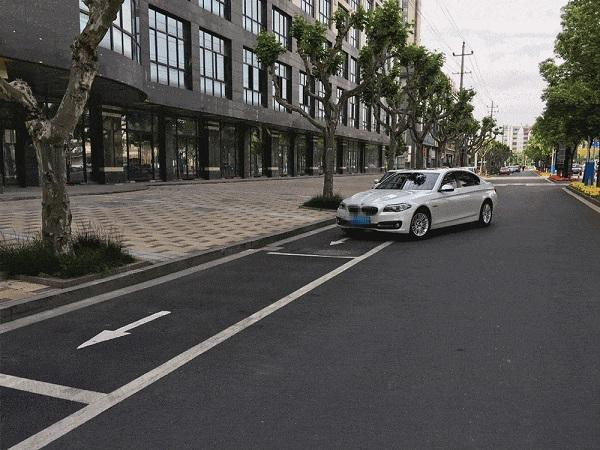slot_nocar: (3, 240, 371, 418)
